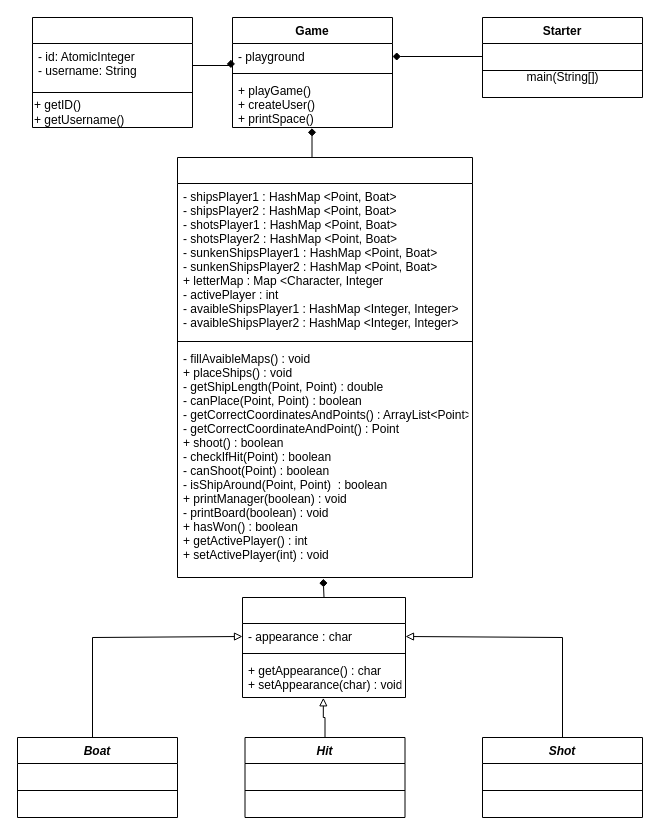
This 660x835 diagram has some shape labels left out. Here are the shapes that lost their labels. From the top down, the box of each, then its label:
(32, 16, 192, 128): Player
(176, 156, 472, 578): Playground
(242, 596, 406, 698): Element
